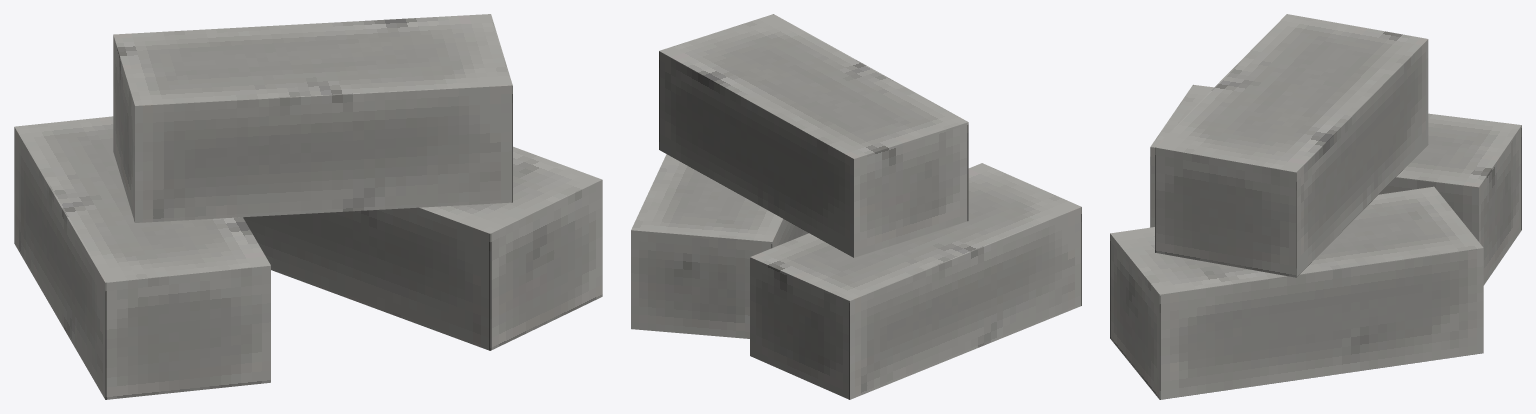
File: Ruins_Bricks01_Geo.fbx
The picture shows the model from 3 angles, left to right: view 1: azimuth 30°, elevation 25°; view 2: azimuth 150°, elevation 25°; view 3: azimuth 270°, elevation 25°; orthographic projection. The views are drawn at different scales.
Visible parts, largest first — view 1: Bricks01_Geo; view 2: Bricks01_Geo; view 3: Bricks01_Geo.
Part boxes in pixels (x1,y1,x2,y2): Bricks01_Geo: (14,14,602,399); Bricks01_Geo: (631,14,1081,399); Bricks01_Geo: (1110,14,1521,399).
Size of the model in its own units: 58.46 by 27.5 by 48.43.
